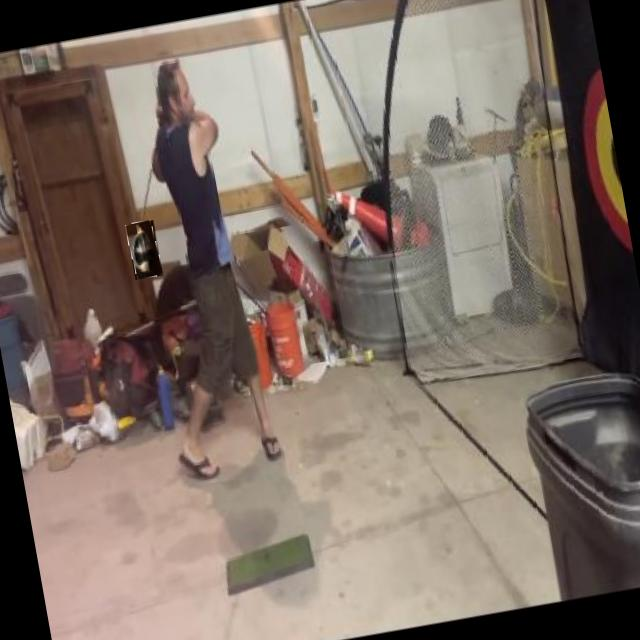club head: (126, 220, 162, 280)
